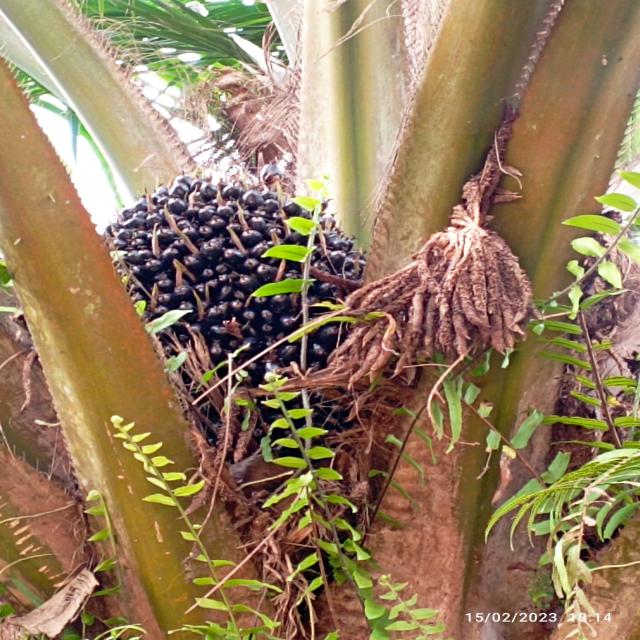fraksi 00: (35, 152, 398, 408)
